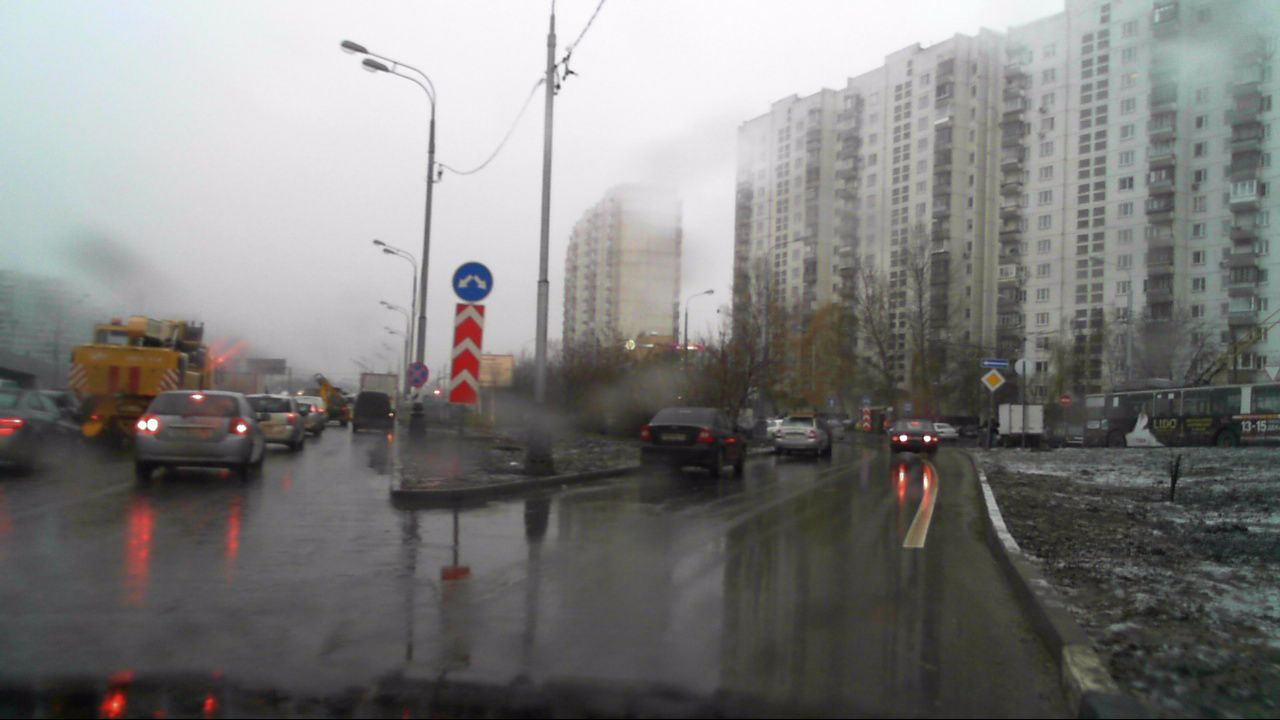No Parking: (407, 362, 428, 387)
